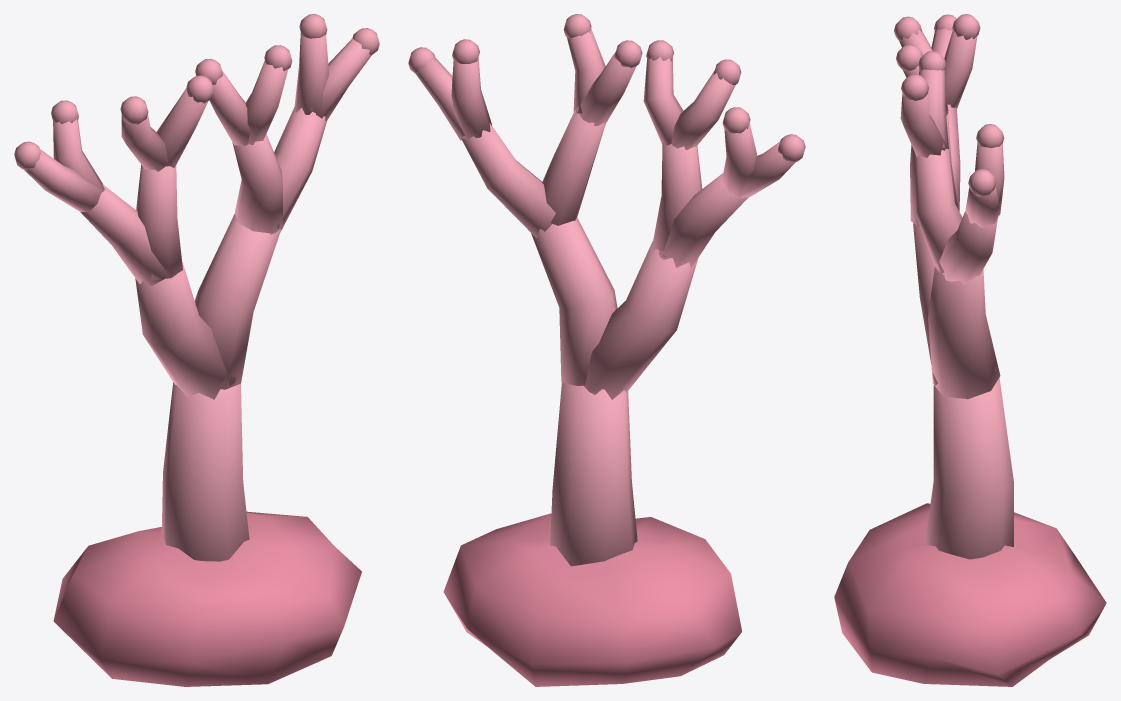
File: shell-coral.glb
The picture shows the model from 3 angles, left to right: view 1: azimuth 30°, elevation 25°; view 2: azimuth 150°, elevation 25°; view 3: azimuth 270°, elevation 25°; orthographic projection. The views are drawn at different scales.
Visible parts, largest first — view 1: shell; view 2: shell; view 3: shell.
Boxes of the visible parts, x1,y1,x2,y2 form: shell: (14,14,379,686); shell: (408,14,805,686); shell: (834,14,1106,686).
Bounding box in the file's own units: 0.225 × 0.3395 × 0.144.
